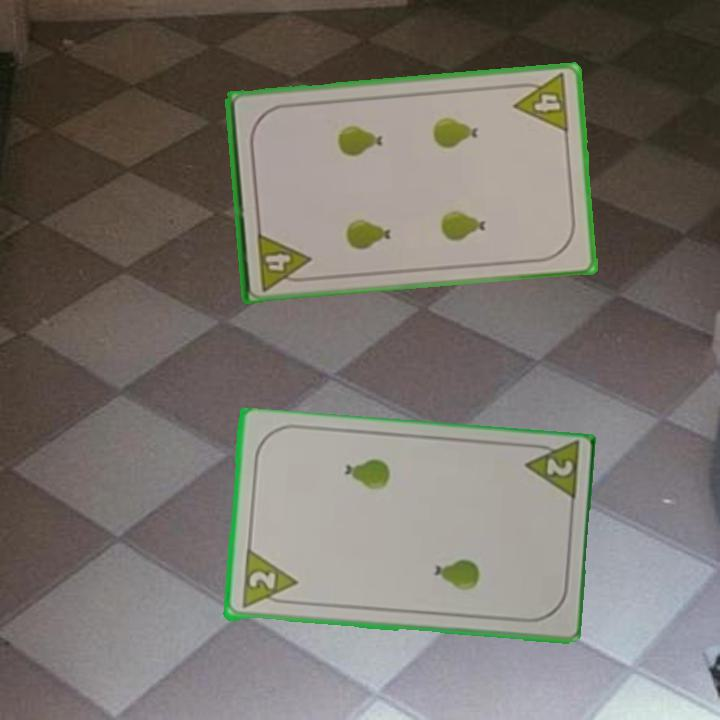2p: (520, 441, 582, 507), (238, 548, 299, 612)
4p: (509, 70, 572, 135), (253, 228, 314, 293)
